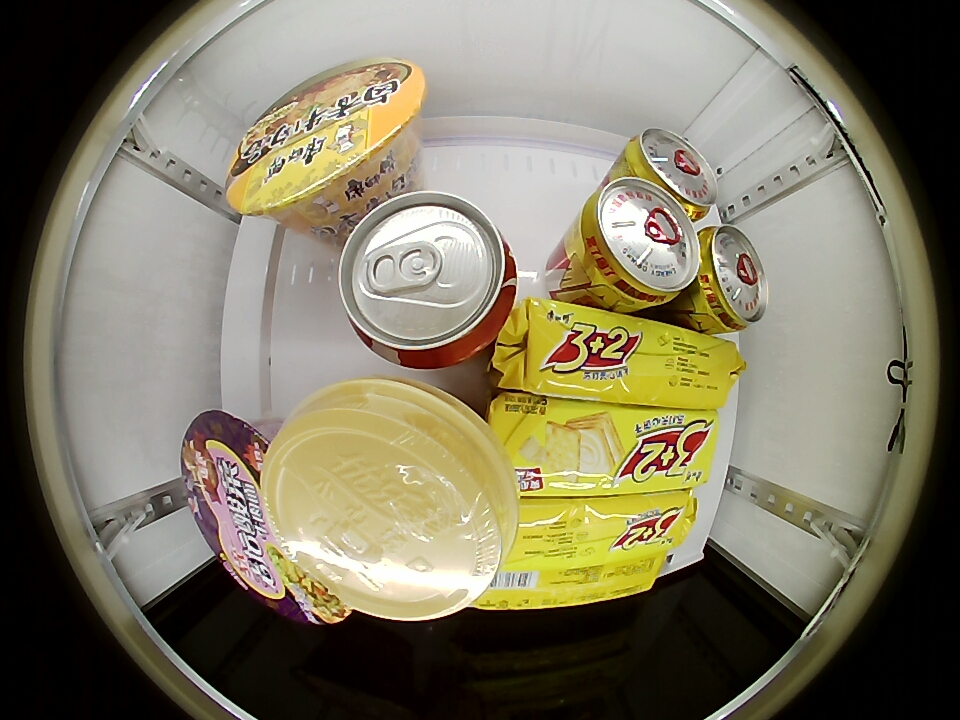3+2-2: (518, 305, 736, 408), (493, 402, 720, 495), (499, 494, 695, 572), (481, 554, 664, 612)
dongpeng: (577, 177, 700, 307), (691, 225, 767, 334), (624, 127, 719, 213)
kele: (338, 190, 518, 370)
laotansuancai: (179, 411, 331, 626)
luxiangniurou: (225, 60, 424, 219)
youlemei: (261, 376, 514, 622)
